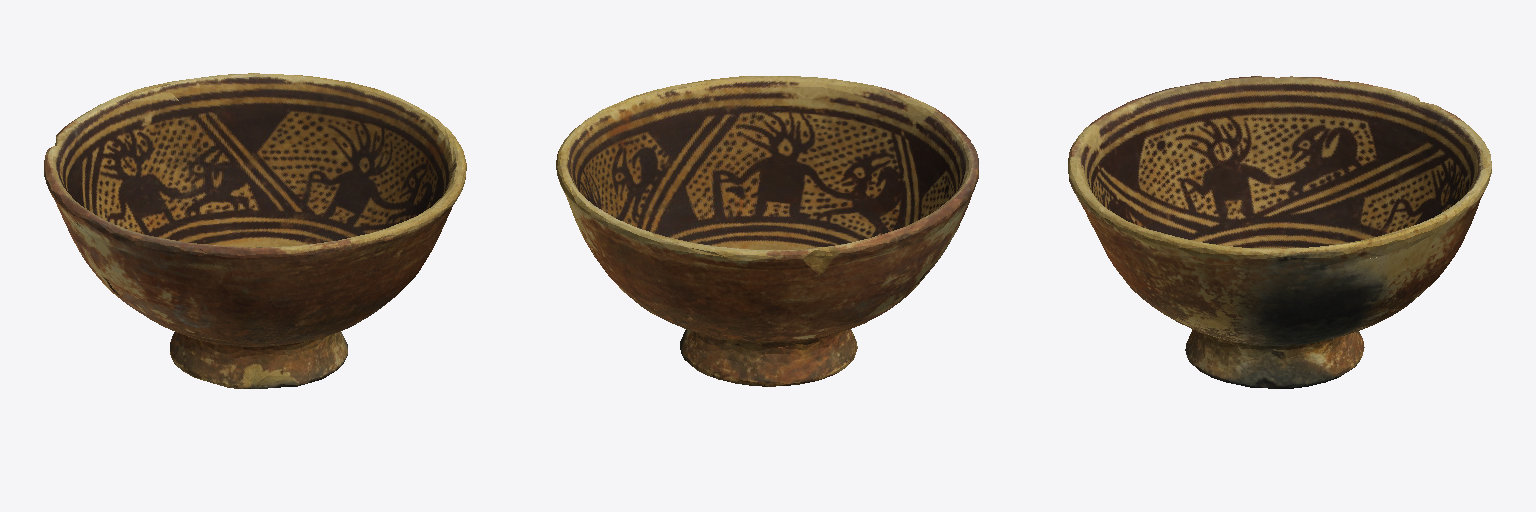
The picture shows the model from 3 angles: view 1: azimuth 30°, elevation 25°; view 2: azimuth 150°, elevation 25°; view 3: azimuth 270°, elevation 25°; orthographic projection.
Parts seen in each view (by area): view 1: piece2229; view 2: piece2229; view 3: piece2229.
Boxes of the visible parts, box(x1,y1,x2,y2) form: piece2229: box(44, 73, 466, 388); piece2229: box(556, 76, 978, 386); piece2229: box(1068, 76, 1491, 388).
Bounding box in the file's own units: 0.4196 × 0.2088 × 0.4215.
Materials: 1 (1 with a texture image).